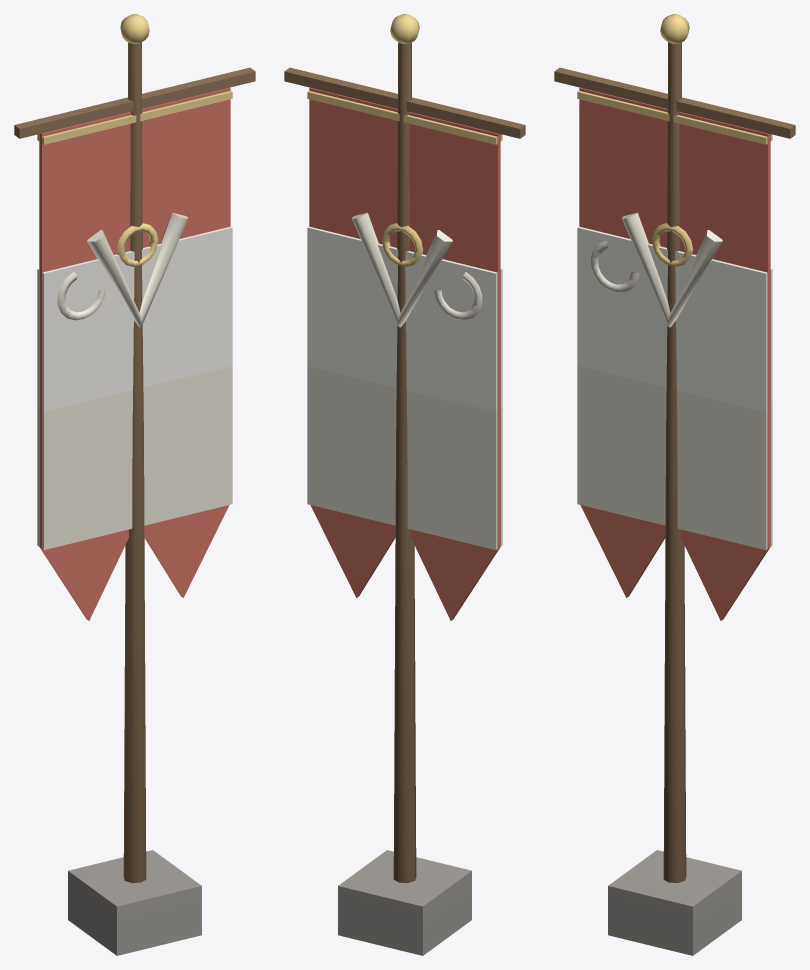
Rendered from banner_niederlande.glb.
The picture shows the model from 3 angles, left to right: view 1: azimuth 30°, elevation 25°; view 2: azimuth 150°, elevation 25°; view 3: azimuth 330°, elevation 25°; orthographic projection.
Visible parts, largest first — view 1: G_banner_niederlande; view 2: G_banner_niederlande; view 3: G_banner_niederlande.
Boxes of the visible parts, box(x1,y1,x2,y2) form: G_banner_niederlande: box(14, 14, 255, 955); G_banner_niederlande: box(284, 14, 525, 955); G_banner_niederlande: box(554, 14, 795, 955).
Size of the model in its own units: 2.5 by 9.24 by 0.9.
